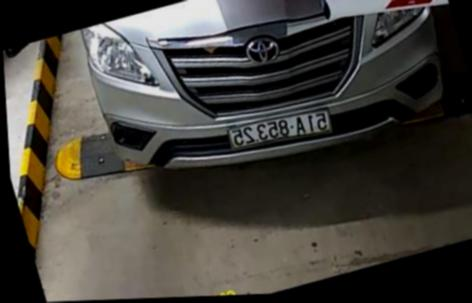License_Plate: (208, 101, 336, 160)
